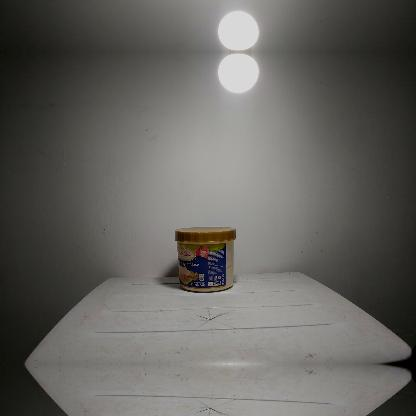Lady-s-Choice: (174, 225, 236, 293)
